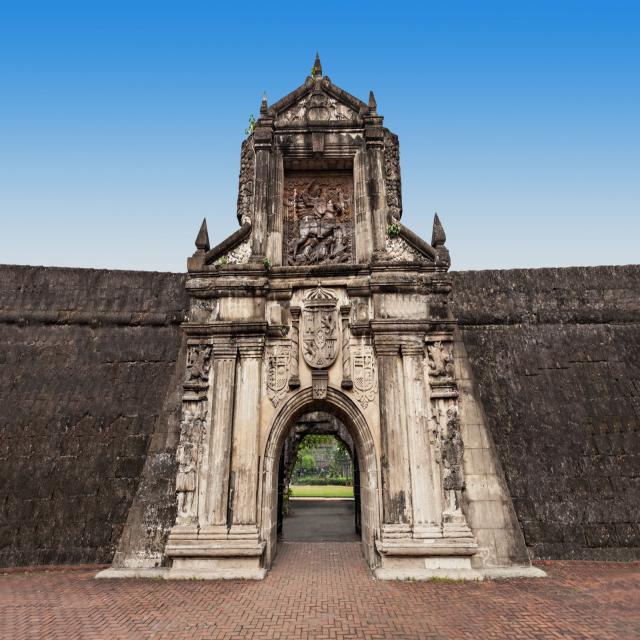Fort Santiago: (0, 53, 640, 584)
